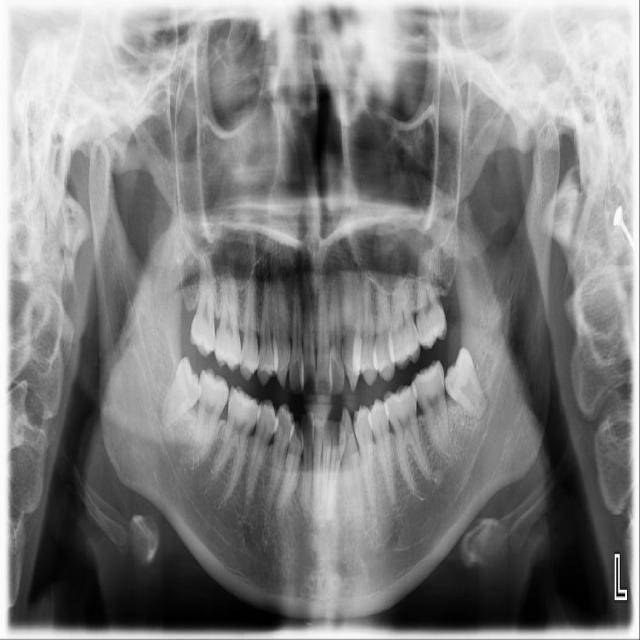impacted tooth: (443, 345, 488, 421), (157, 357, 200, 432)
